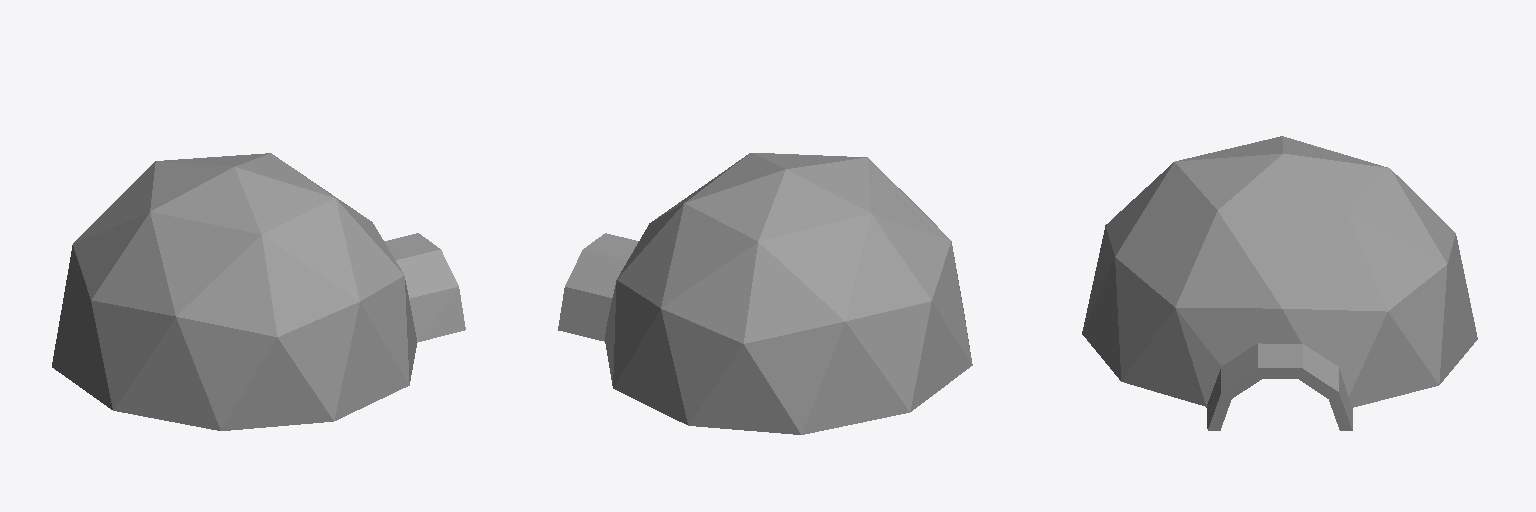
Rendered from Igloo2.obj.
3 renders of one model, left to right at view 1: azimuth 30°, elevation 25°; view 2: azimuth 150°, elevation 25°; view 3: azimuth 270°, elevation 25°, orthographic.
Visible parts, largest first — view 1: Cylinder.003_Cylinder.004; view 2: Cylinder.003_Cylinder.004; view 3: Cylinder.003_Cylinder.004.
Boxes of the visible parts, x1=… form: Cylinder.003_Cylinder.004: x1=52, y1=153, x2=465, y2=430; Cylinder.003_Cylinder.004: x1=558, y1=153, x2=972, y2=434; Cylinder.003_Cylinder.004: x1=1082, y1=136, x2=1477, y2=430.
Size of the model in its own units: 2.16 by 1.1 by 2.13.